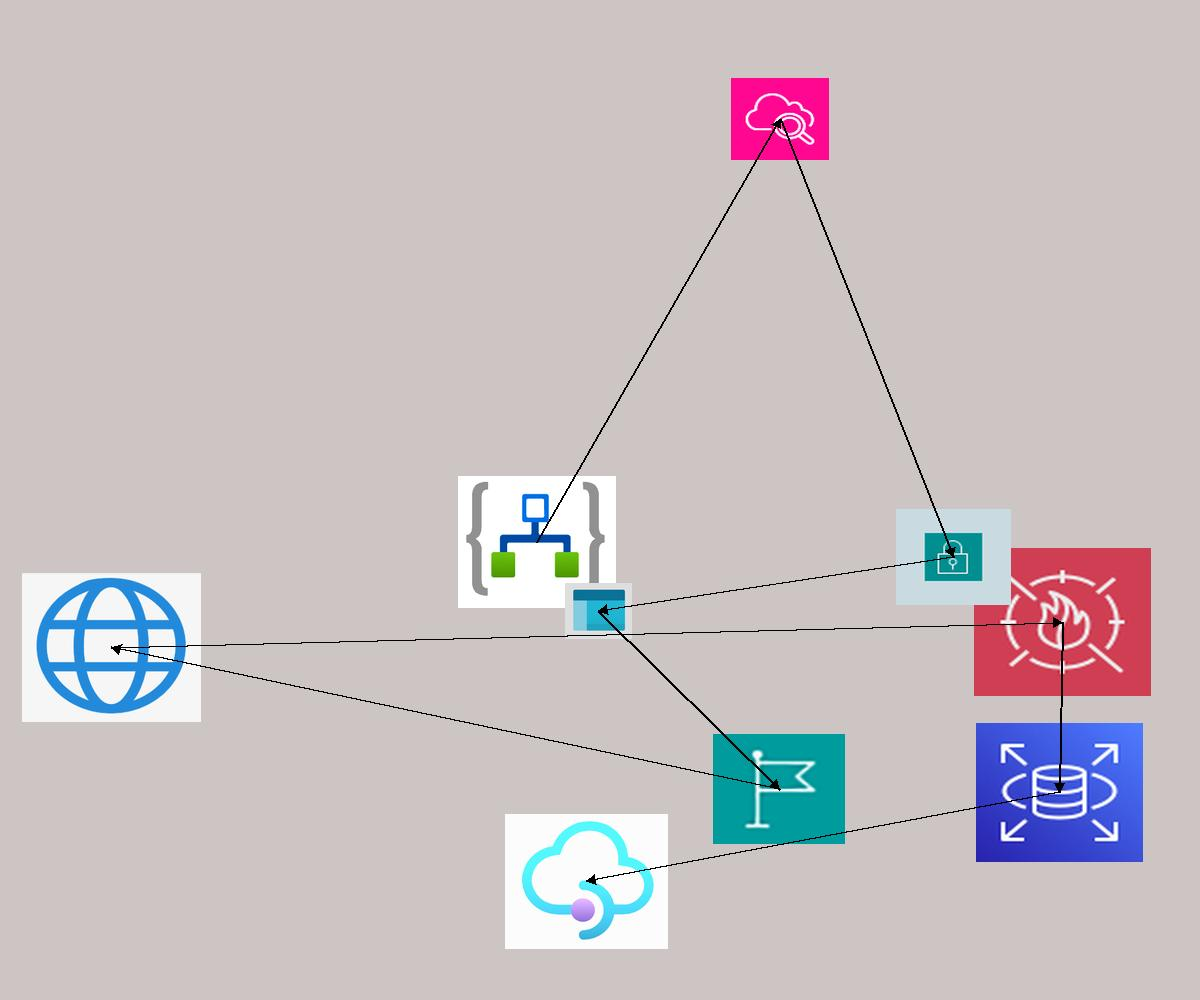AWS-CloudWatch: (731, 78, 829, 160)
AWS-Private-subnet: (896, 509, 1011, 605)
AWS-RDS: (976, 723, 1143, 862)
AWS-Region: (713, 734, 845, 844)
AWS-WAF: (974, 548, 1151, 696)
Azure_api_gateway: (505, 814, 668, 949)
Azure_http: (22, 573, 201, 722)
Azure_integration-204-Logic-Apps: (458, 476, 616, 608)
Azure_management-portal: (565, 583, 632, 639)
